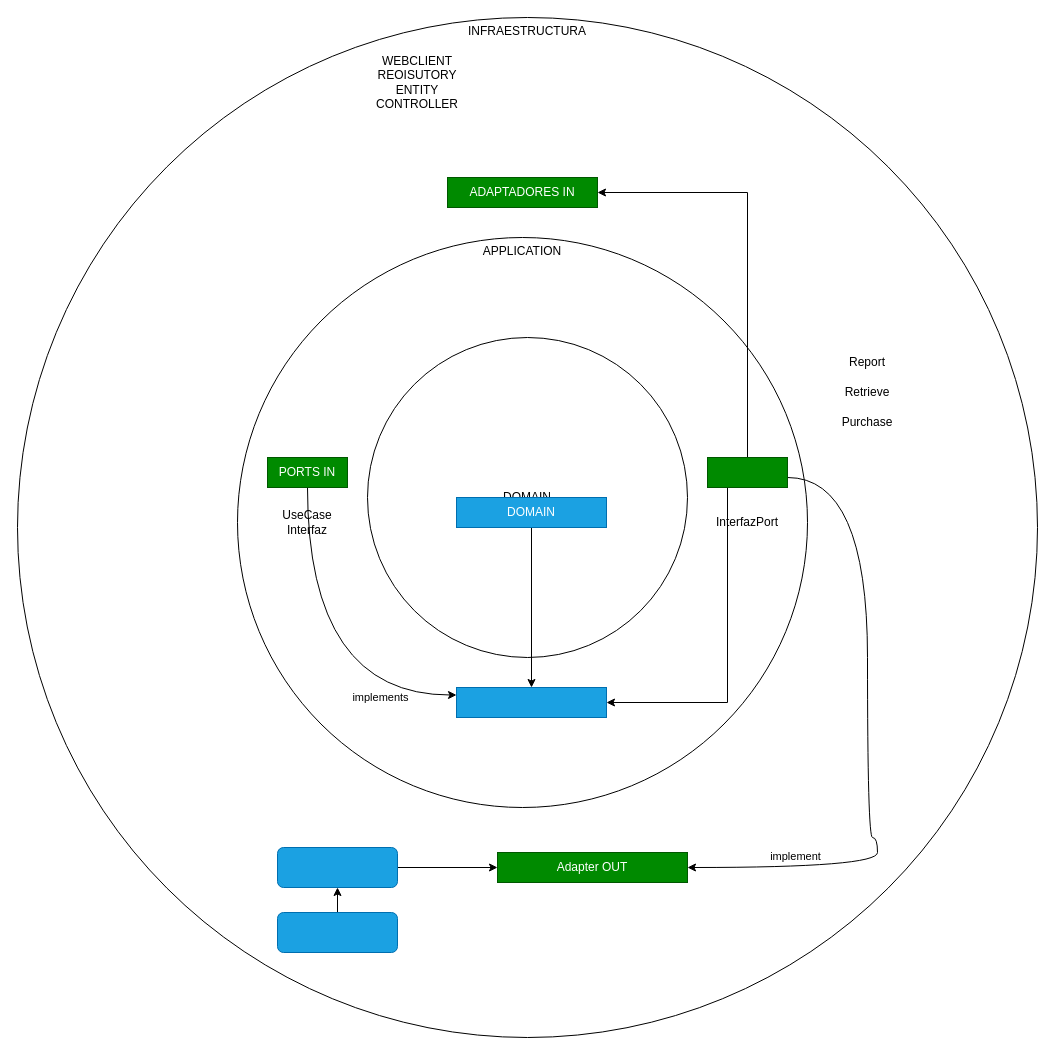
Some shapes in this 1055 by 1055 pixel diagram are drawn without their labels. Here are the shapes that lost their labels. From the top down, the centre of each, then its label:
point 747,472: PORTS OUT
point 531,702: ServicesImpl
point 337,867: REPOSITORY
point 337,932: ENTITY
